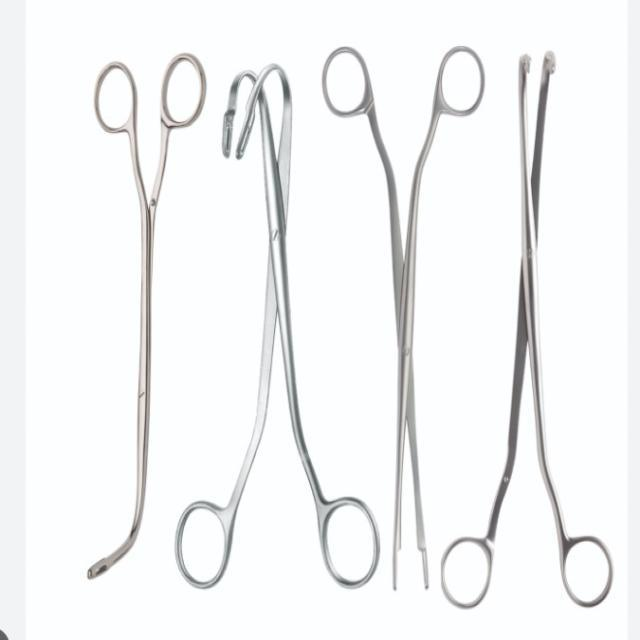Randall: (177, 55, 386, 600), (76, 40, 200, 597)
